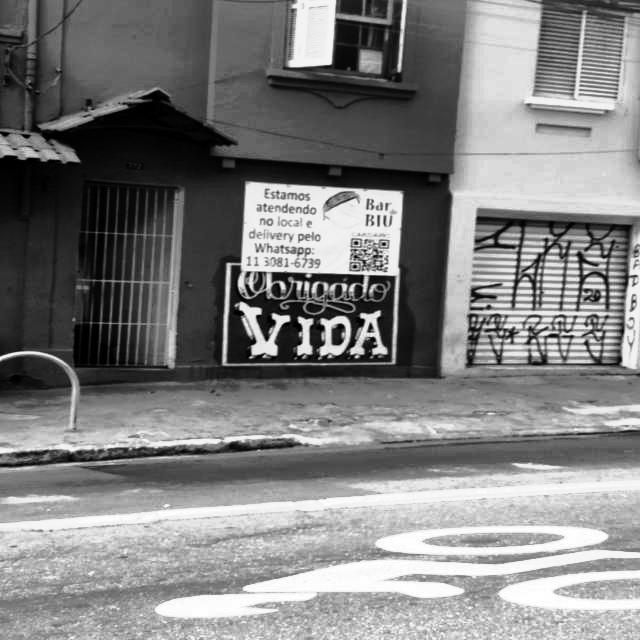qr_code: (350, 239, 389, 273)
